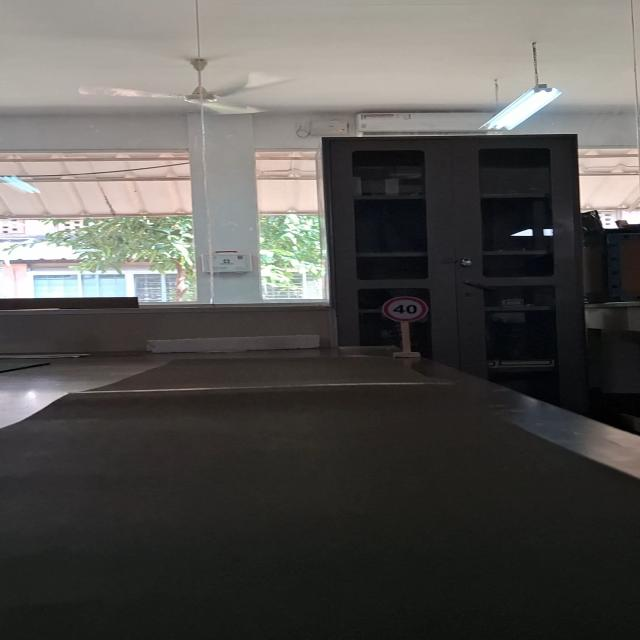Speed40: (374, 292, 441, 323)
